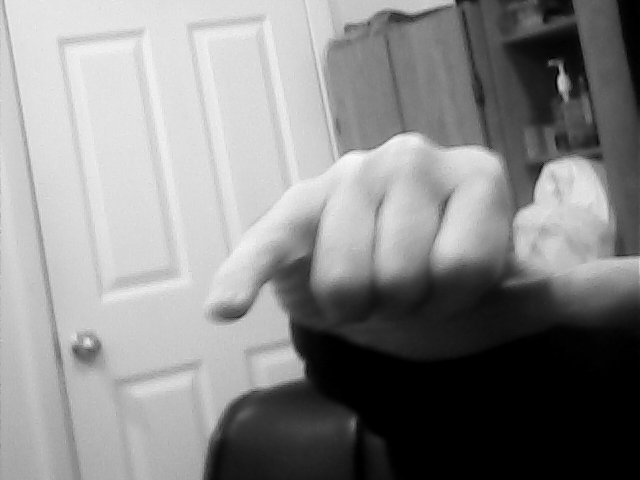aloha: (204, 127, 640, 364)
